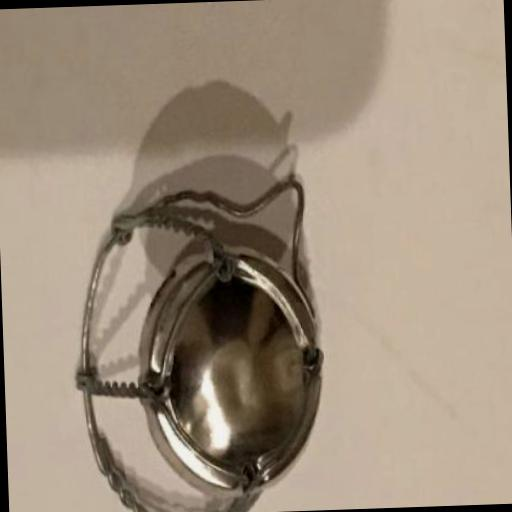metal: (66, 177, 331, 512)
